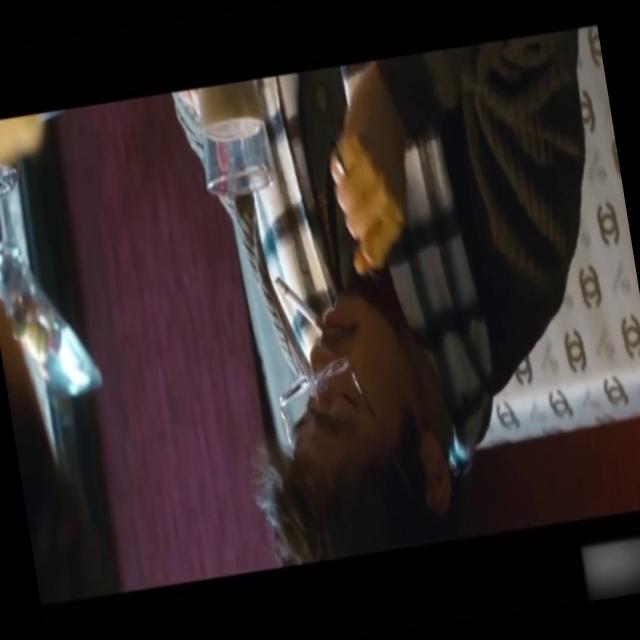cigarette: (275, 276, 320, 342)
